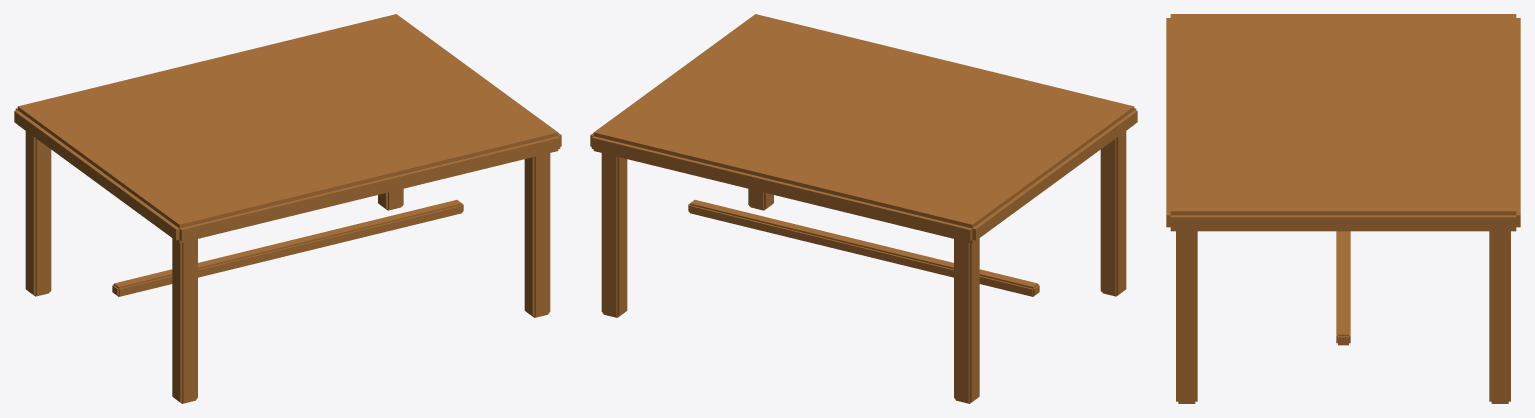
The model's file is lihzahrd_table_v0.glb.
The picture shows the model from 3 angles, left to right: view 1: azimuth 30°, elevation 25°; view 2: azimuth 150°, elevation 25°; view 3: azimuth 270°, elevation 25°; orthographic projection. The views are drawn at different scales.
Parts seen in each view (by area): view 1: lihzahrd_table_v0; view 2: lihzahrd_table_v0; view 3: lihzahrd_table_v0.
Boxes of the visible parts, <box> form: lihzahrd_table_v0: <box>14,14,561,403</box>; lihzahrd_table_v0: <box>590,14,1137,403</box>; lihzahrd_table_v0: <box>1166,14,1520,403</box>.
Size of the model in its own units: 1.96 by 0.89 by 1.46.
